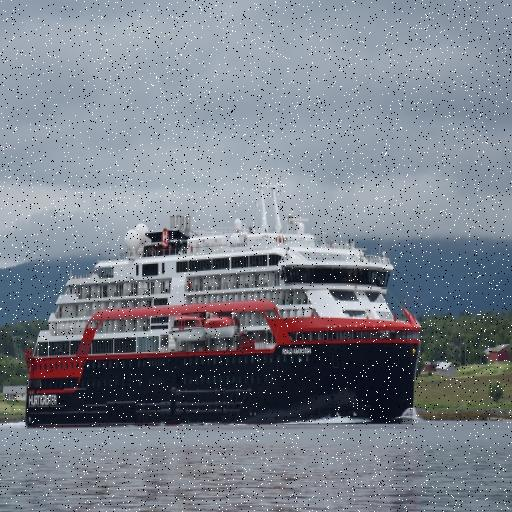cruises: (25, 169, 424, 433)
